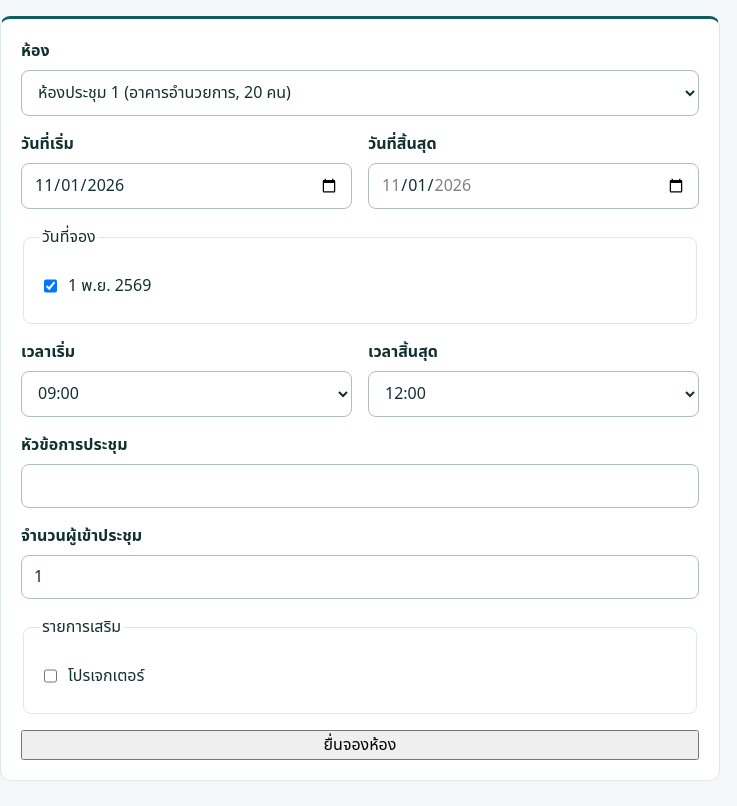
shows the Thai message for a rule the server rejects
The width and height of the screenshot is (737, 806).
Type "2026-11-05" into the date field labelled "วันที่เริ่ม". click: (186, 186)
box: 21,163 -> 352,209
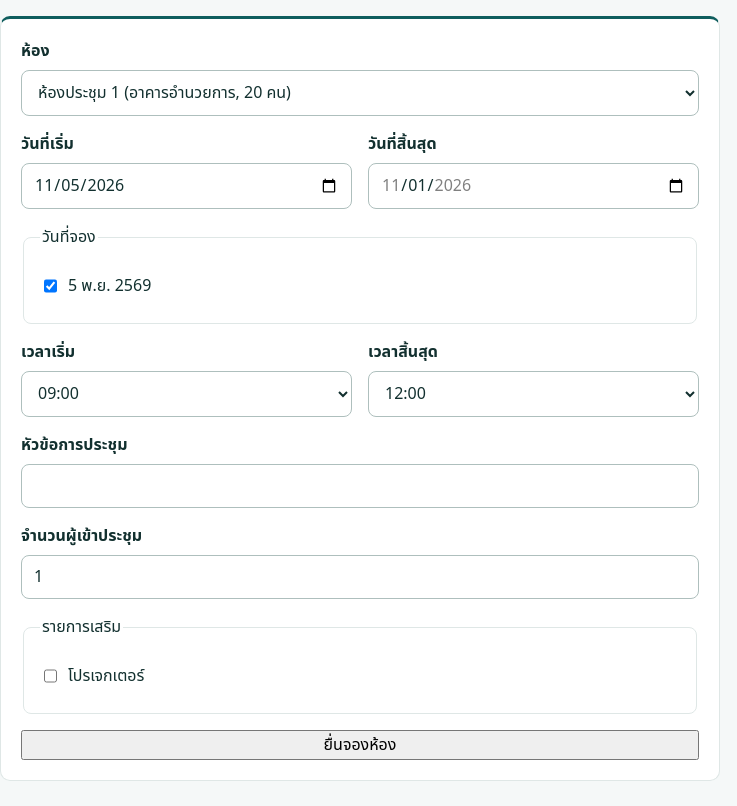
Type "2026-11-07" into the date field labelled "วันที่สิ้นสุด". click: (534, 186)
box: 368,163 -> 699,209
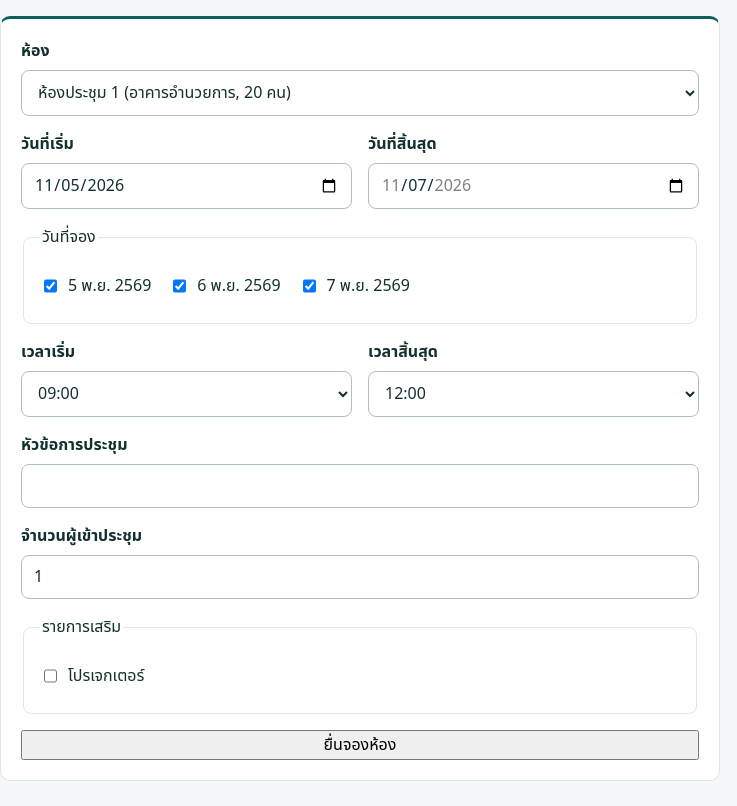
Select "09:00" in the dropdown labelled "เวลาเริ่ม". click: (186, 394)
box: 21,371 -> 352,417
Select "12:00" in the dropdown labelled "เวลาสิ้นสุด". click: (534, 394)
box: 368,371 -> 699,417
Type "อบรมพยาบาลใหม่" into the field labelled "หัวข้อการประชุม". click: (360, 486)
box: 21,464 -> 699,508
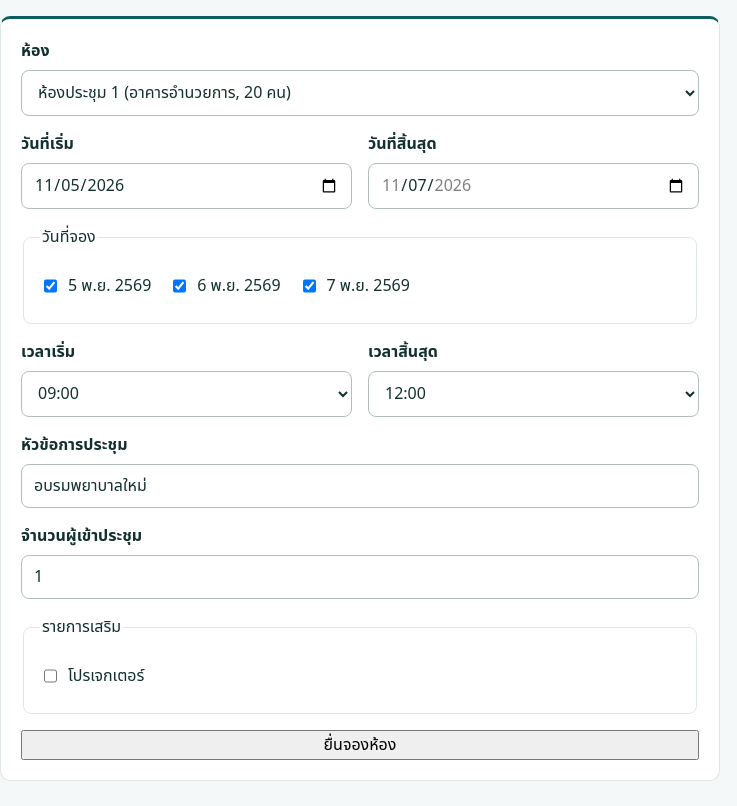
Replace the text in the number field labelled "จำนวนผู้เข้าประชุม" with "15". click: (360, 577)
box: 21,555 -> 699,599
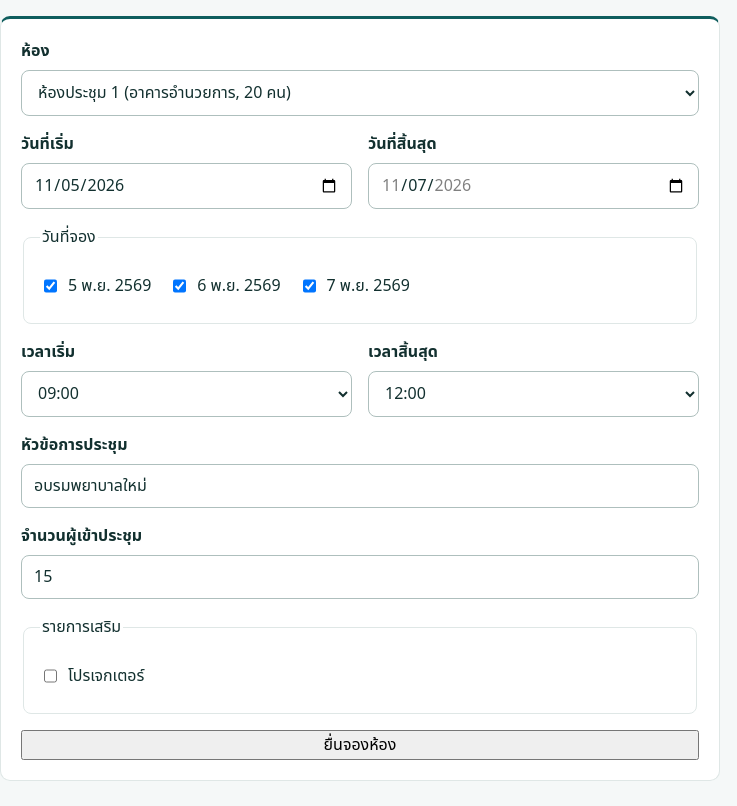
Click the button "ยื่นจองห้อง". click: (360, 745)
box: 21,730 -> 699,760
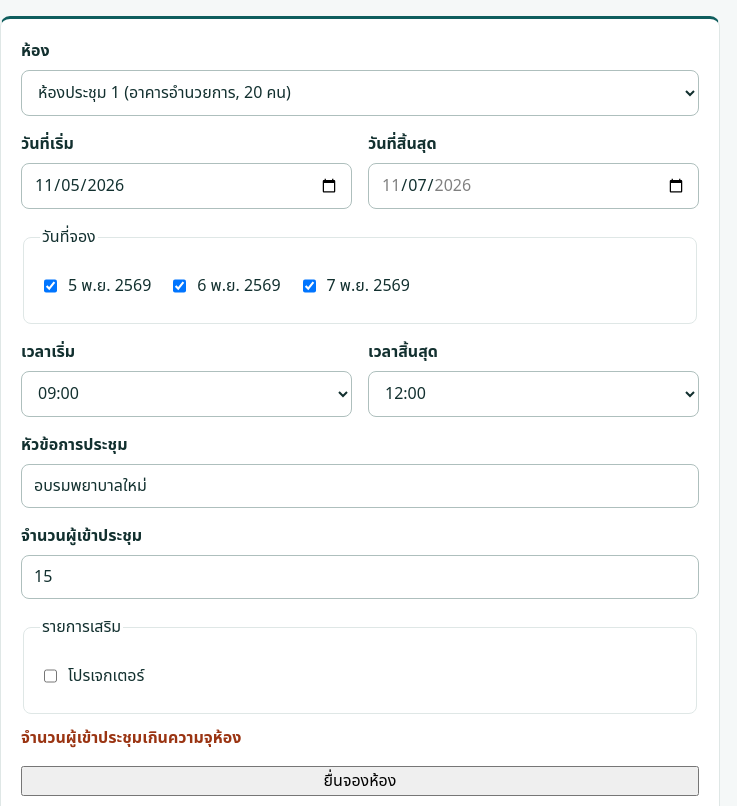
Result: the message reads "จำนวนผู้เข้าประชุมเกินความจุห้อง" at 21,726 -> 241,750
